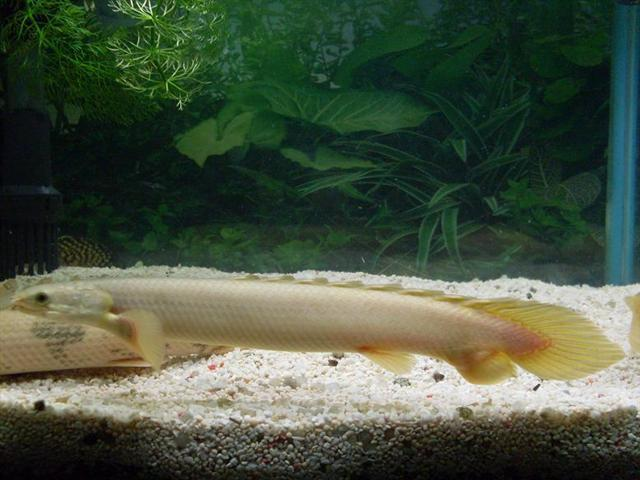Mulut: (2, 271, 54, 337)
Sirip Anal: (442, 334, 524, 394)
Sirip Dada: (100, 305, 186, 377)
Sirip Ekor: (514, 270, 638, 400)
Sirip Perut: (346, 328, 422, 384)
Sirip Punggung: (240, 262, 482, 318)
